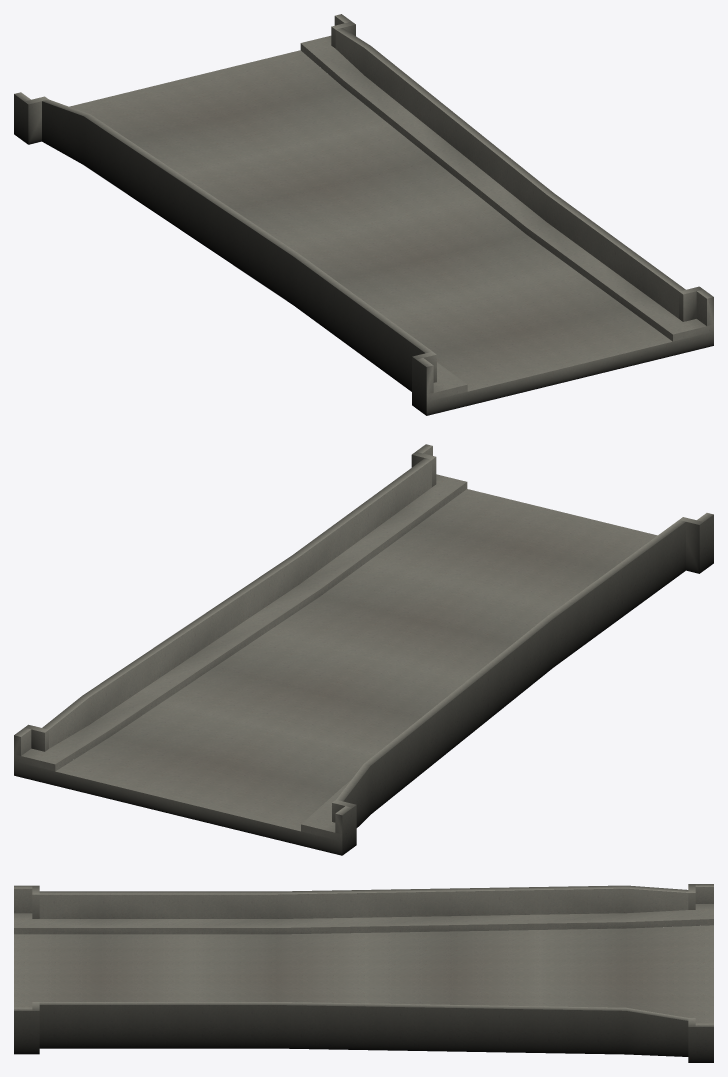
The model's file is ST_TO_2RAIL_KONKURI.glb.
3 views of the same model, one above another, from view 1: azimuth 30°, elevation 25°; view 2: azimuth 150°, elevation 25°; view 3: azimuth 270°, elevation 25° (orthographic). The views are drawn at different scales.
Parts seen in each view (by area): view 1: obj4; view 2: obj4; view 3: obj4.
Boxes of the visible parts, x1,y1,x2,y2 form: obj4: (14, 14, 713, 415); obj4: (14, 444, 713, 855); obj4: (14, 884, 713, 1062).
Size of the model in its own units: 48.29 by 6.88 by 100.
1 material, 1 textured.
